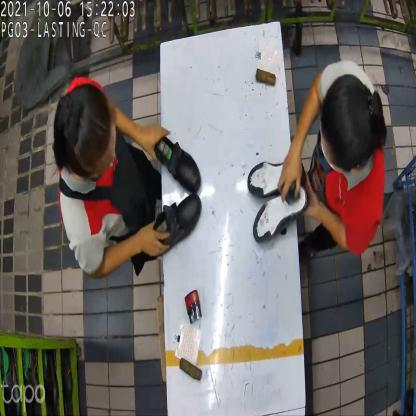shoes: (146, 129, 205, 251)
stamp: (279, 163, 304, 204), (185, 290, 203, 327)
